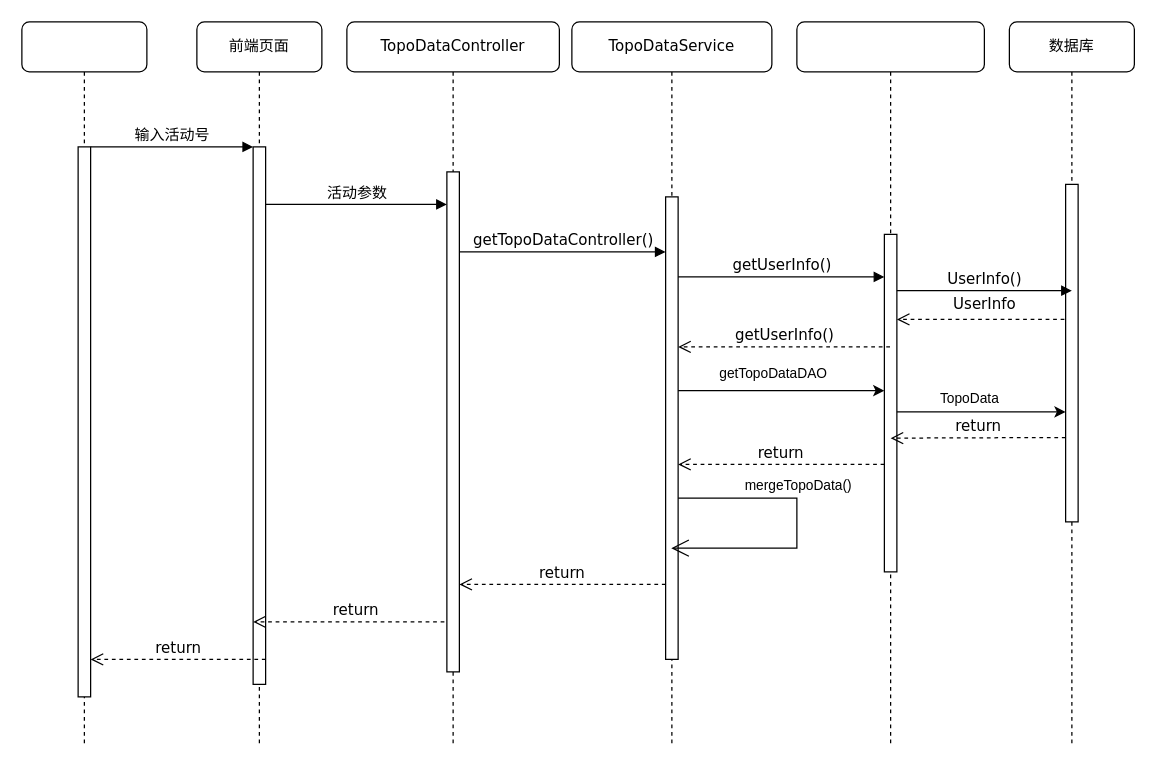
Some shapes in this 1156 by 769 pixel diagram are drawn without their labels. The shapes that lost their labels are listed below. From the top down, each one's box as (x1, y1, x2, y2) in pixels, then its label:
(21, 21, 147, 747): 活动开发
(796, 21, 984, 747): TopoDataDAO
